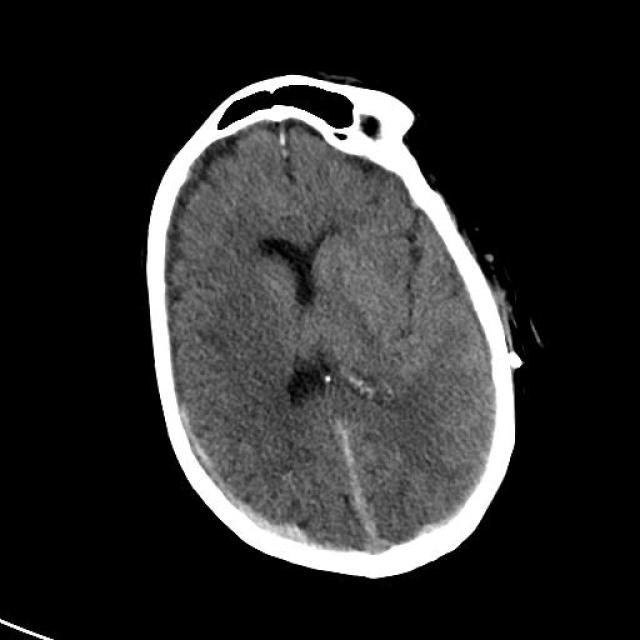Subdural: (166, 398, 335, 574)
